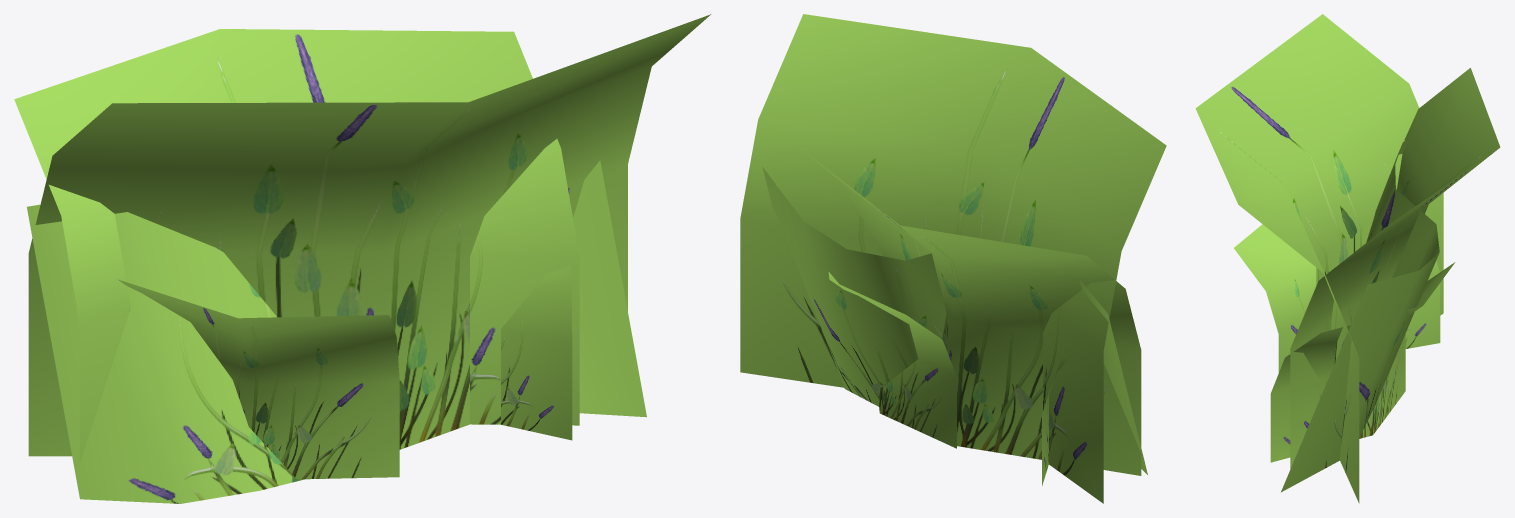
Rendered from flowerplant2_lod0.fbx.
The picture shows the model from 3 angles, left to right: view 1: azimuth 30°, elevation 25°; view 2: azimuth 150°, elevation 25°; view 3: azimuth 270°, elevation 25°; orthographic projection. The views are drawn at different scales.
Visible parts, largest first — view 1: Mesh Object; view 2: Mesh Object; view 3: Mesh Object.
Part boxes in pixels (left/top/right/bottom): Mesh Object: left=14, top=14, right=711, bottom=503; Mesh Object: left=740, top=14, right=1166, bottom=503; Mesh Object: left=1195, top=14, right=1500, bottom=503.
Size of the model in its own units: 2.82 by 2.06 by 1.9.
